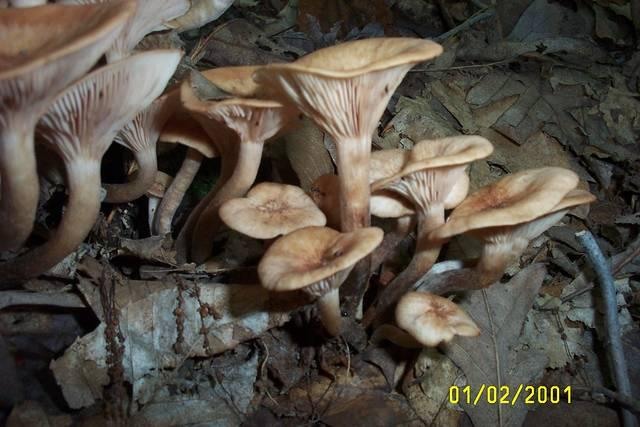edible_mushroom: (0, 1, 597, 353), (256, 223, 384, 336)
